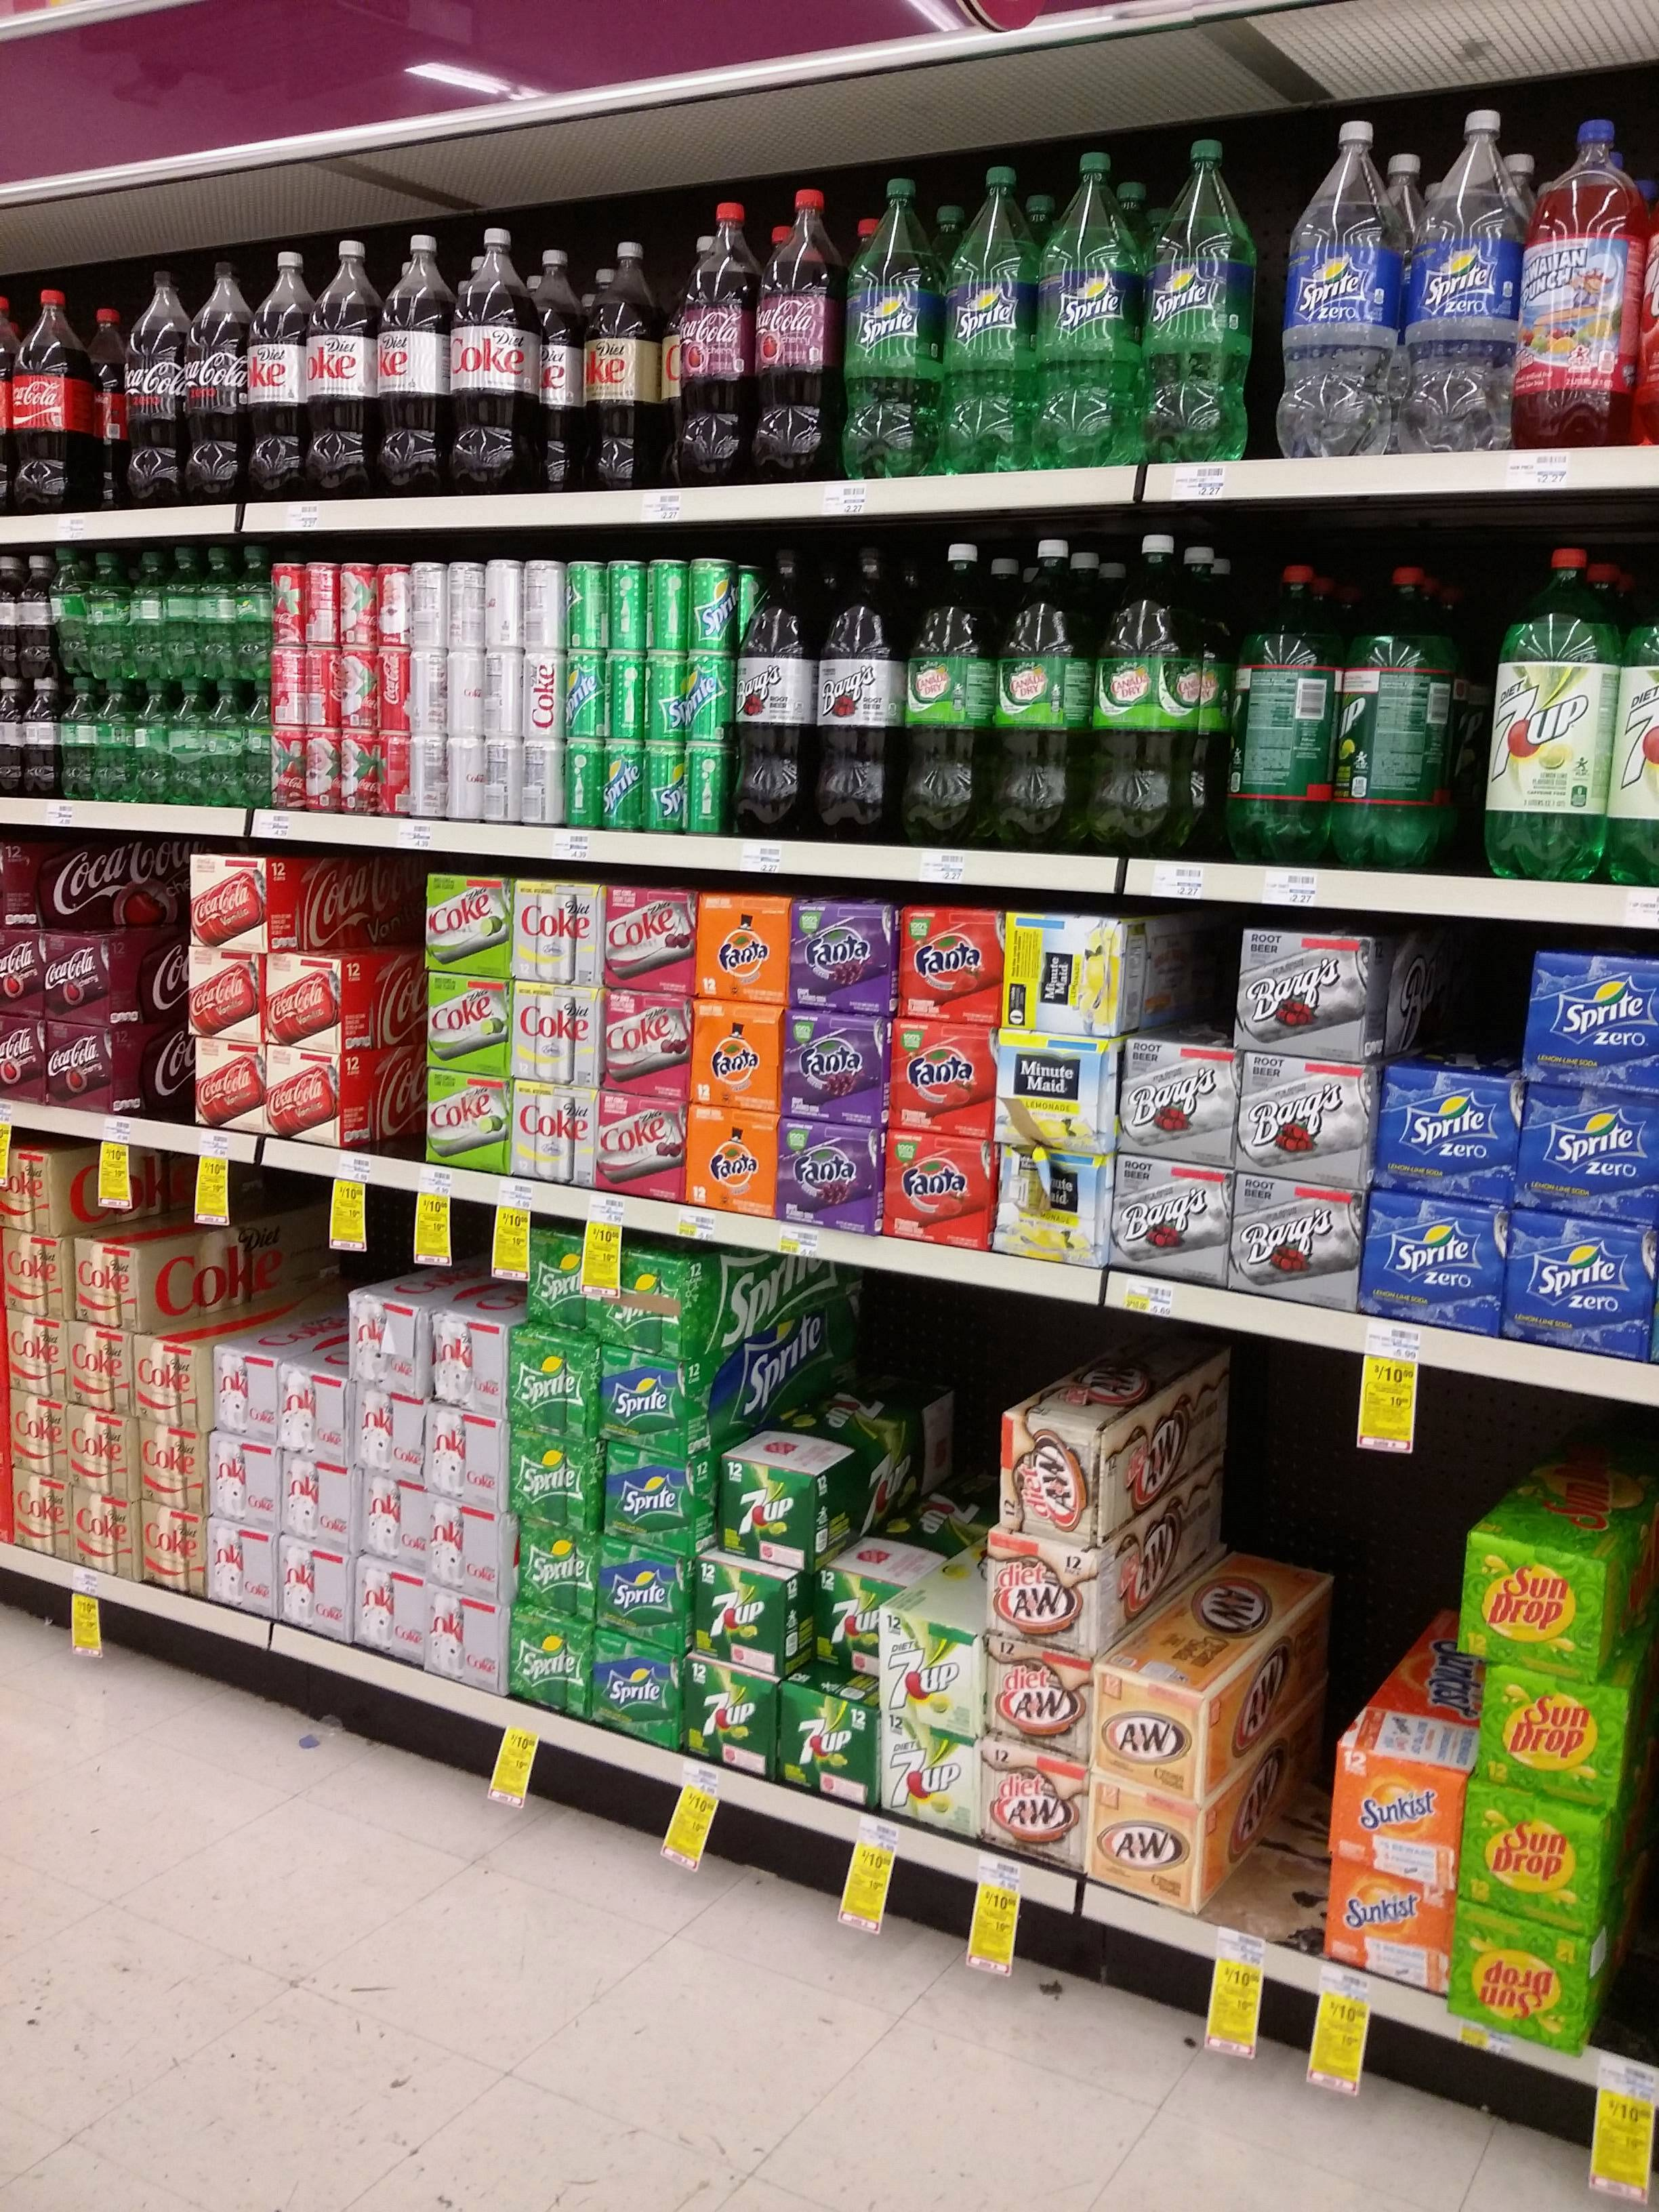Misplacement: (1363, 939, 1534, 1336), (1114, 932, 1246, 1301), (535, 223, 678, 495), (770, 1543, 904, 1824)
Out-of-stock: (1202, 1674, 1338, 1963), (110, 859, 192, 1125), (335, 958, 432, 1160)
